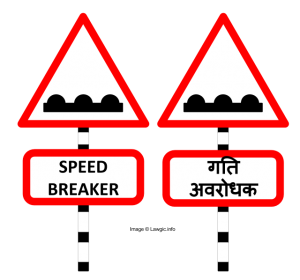speed-breaker: (25, 25, 142, 127), (168, 25, 281, 126)
